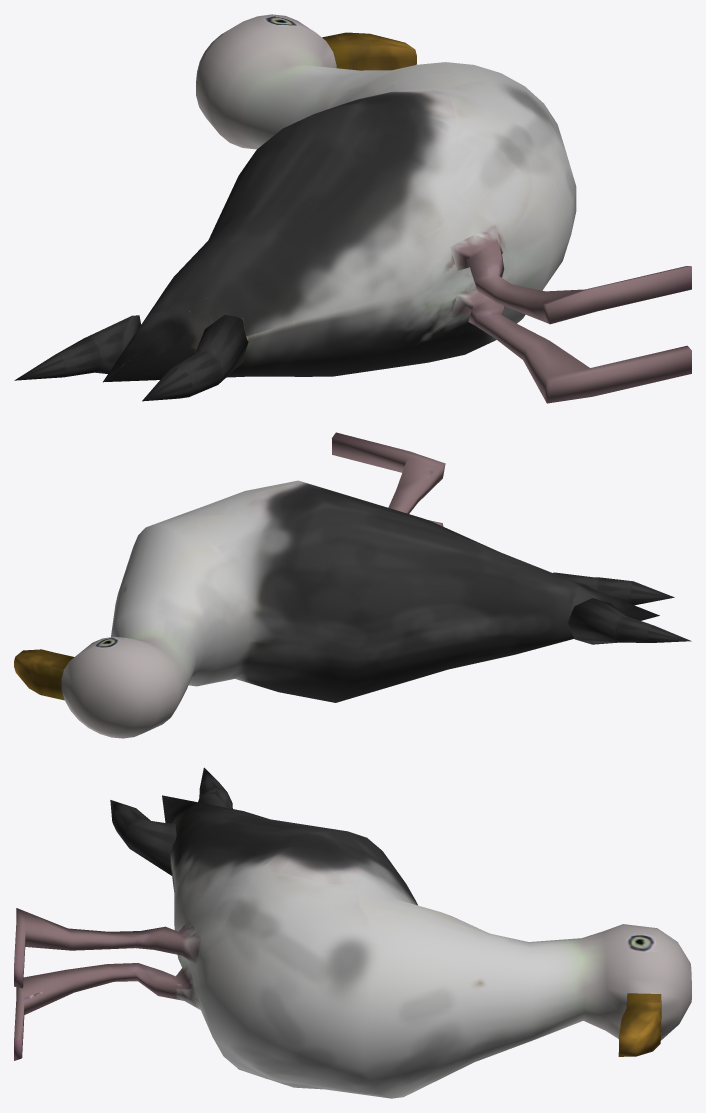
File: Seagull.fbx
The picture shows the model from 3 angles, top to bottom: view 1: azimuth 30°, elevation 25°; view 2: azimuth 150°, elevation 25°; view 3: azimuth 270°, elevation 25°; orthographic projection. The views are drawn at different scales.
Parts seen in each view (by area): view 1: Seagull; view 2: Seagull; view 3: Seagull.
Boxes of the visible parts, <box> form: Seagull: <box>14,14,691,403</box>; Seagull: <box>14,432,691,738</box>; Seagull: <box>14,767,691,1098</box>.
Size of the model in its own units: 1.31 by 0.5019 by 1.35.
